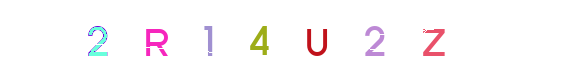1: (221, 0, 301, 80)
2: (58, 0, 138, 80), (277, 0, 357, 80)
4: (243, 0, 323, 80)
R: (111, 0, 191, 80)
U: (252, 0, 332, 80)
Z: (380, 0, 460, 80)
